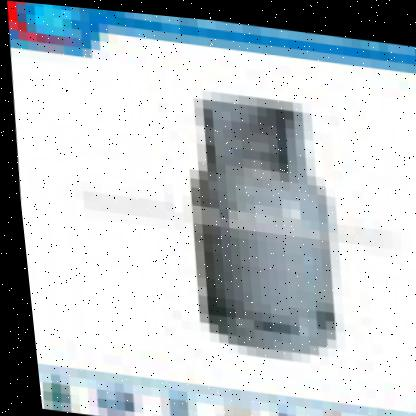gas-tank: (170, 73, 360, 362)
